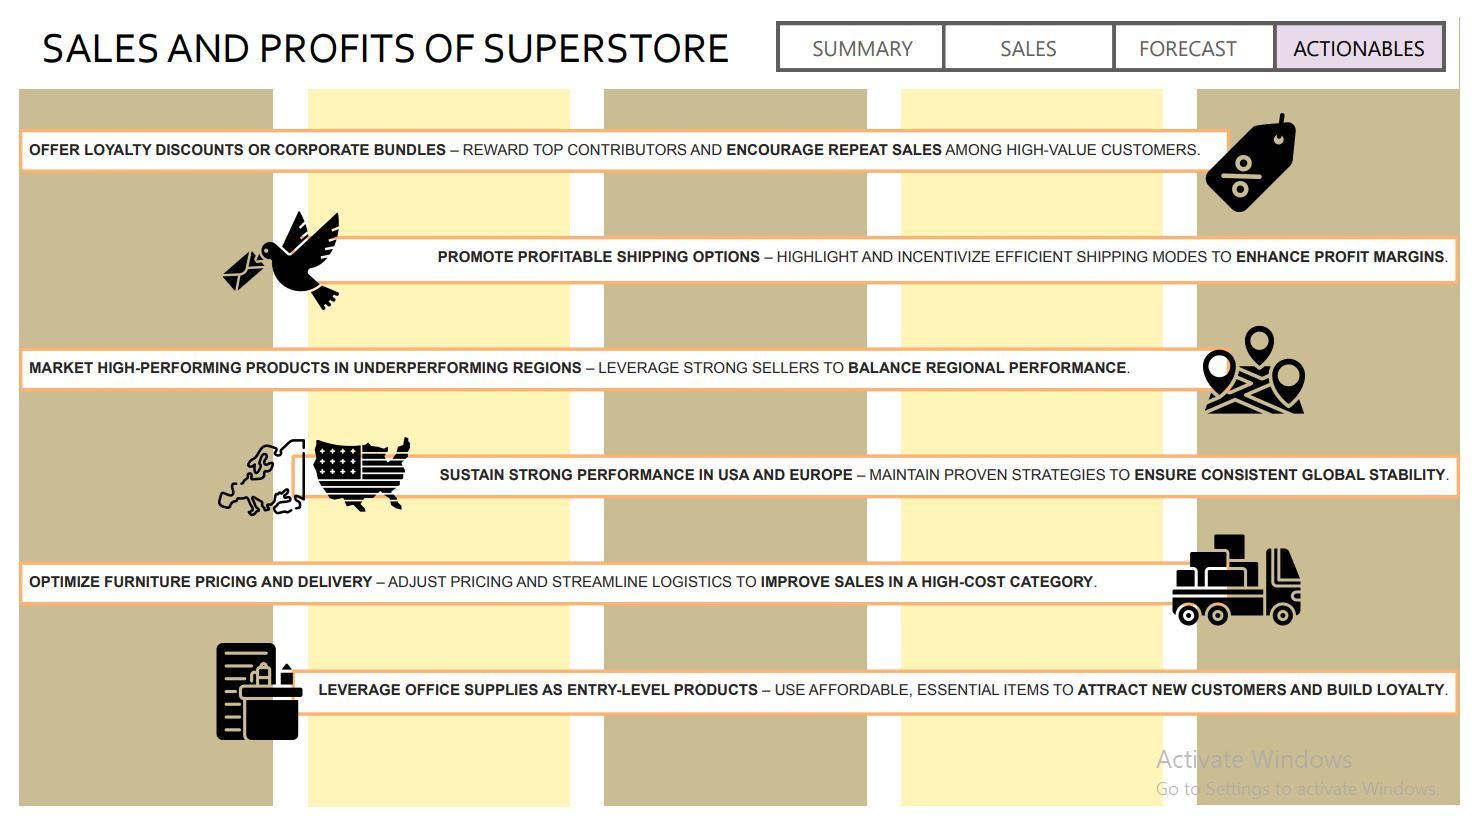

Layout of this report page (visuals, bound fields, positions):
{"tool":"powerbi","page":{"name":"Actionables","canvas":[1280,720],"ordinal":3},"visuals":[{"type":"shape","box":[520.1,11.2,233.2,699.5],"z":0},{"type":"shape","box":[784.3,10.6,231.9,700.7],"z":1000},{"type":"shape","box":[1046.8,10.9,233.2,699.5],"z":2000},{"type":"shape","box":[257,10,231.9,701.9],"z":3000},{"type":"shape","box":[0,17.3,225.4,693.5],"z":4000},{"type":"textbox","box":[0,109.8,1076.3,39],"z":5000},{"type":"textbox","box":[242.4,205.1,1036.4,43.4],"z":6000},{"type":"textbox","box":[0,304.3,1076.3,39],"z":7000},{"type":"textbox","box":[242.4,399,1037.4,39.4],"z":8000},{"type":"textbox","box":[0,494.4,1076.3,39],"z":9000},{"type":"textbox","box":[242.4,589.9,1036.4,41.4],"z":10000},{"type":"textbox","box":[0,9.6,1279.1,64.2],"z":11000},{"type":"actionButton","box":[672.8,14.7,152.8,44.5],"z":12000},{"type":"actionButton","box":[960,14.7,157.4,44.5],"z":13000},{"type":"actionButton","box":[820,14.7,153.6,44.5],"z":14000},{"type":"actionButton","box":[1113.8,14.6,153.1,44.6],"z":15000},{"type":"image","box":[1046.5,90.9,97,97],"z":16000},{"type":"image","box":[161.6,158.6,140.4,136.4],"z":17000},{"type":"image","box":[1047.4,267.3,99.7,111.2],"z":18000},{"type":"image","box":[1020.2,448.5,123.2,124.2],"z":19000},{"type":"image","box":[166.1,559.1,95.3,101.1],"z":20000},{"type":"image","box":[244.3,357.1,120,105.7],"z":21000},{"type":"image","box":[171.4,375.7,88.6,87.1],"z":22000}]}

Visuals, with their boxes in screenshot pixels (x1, y1, x2, y2), scaled from the page's 1280x720 canvas onto the 1481x826 screenshot:
shape: [x1=602, y1=13, x2=872, y2=815]
shape: [x1=907, y1=12, x2=1176, y2=816]
shape: [x1=1211, y1=13, x2=1480, y2=815]
shape: [x1=297, y1=11, x2=566, y2=817]
shape: [x1=0, y1=20, x2=261, y2=815]
textbox: [x1=0, y1=126, x2=1245, y2=171]
textbox: [x1=280, y1=235, x2=1480, y2=285]
textbox: [x1=0, y1=349, x2=1245, y2=394]
textbox: [x1=280, y1=458, x2=1480, y2=503]
textbox: [x1=0, y1=567, x2=1245, y2=612]
textbox: [x1=280, y1=677, x2=1480, y2=724]
textbox: [x1=0, y1=11, x2=1480, y2=85]
actionButton: [x1=778, y1=17, x2=955, y2=68]
actionButton: [x1=1111, y1=17, x2=1293, y2=68]
actionButton: [x1=949, y1=17, x2=1126, y2=68]
actionButton: [x1=1289, y1=17, x2=1466, y2=68]
image: [x1=1211, y1=104, x2=1323, y2=216]
image: [x1=187, y1=182, x2=349, y2=338]
image: [x1=1212, y1=307, x2=1327, y2=434]
image: [x1=1180, y1=515, x2=1323, y2=657]
image: [x1=192, y1=641, x2=302, y2=757]
image: [x1=283, y1=410, x2=422, y2=531]
image: [x1=198, y1=431, x2=301, y2=531]
